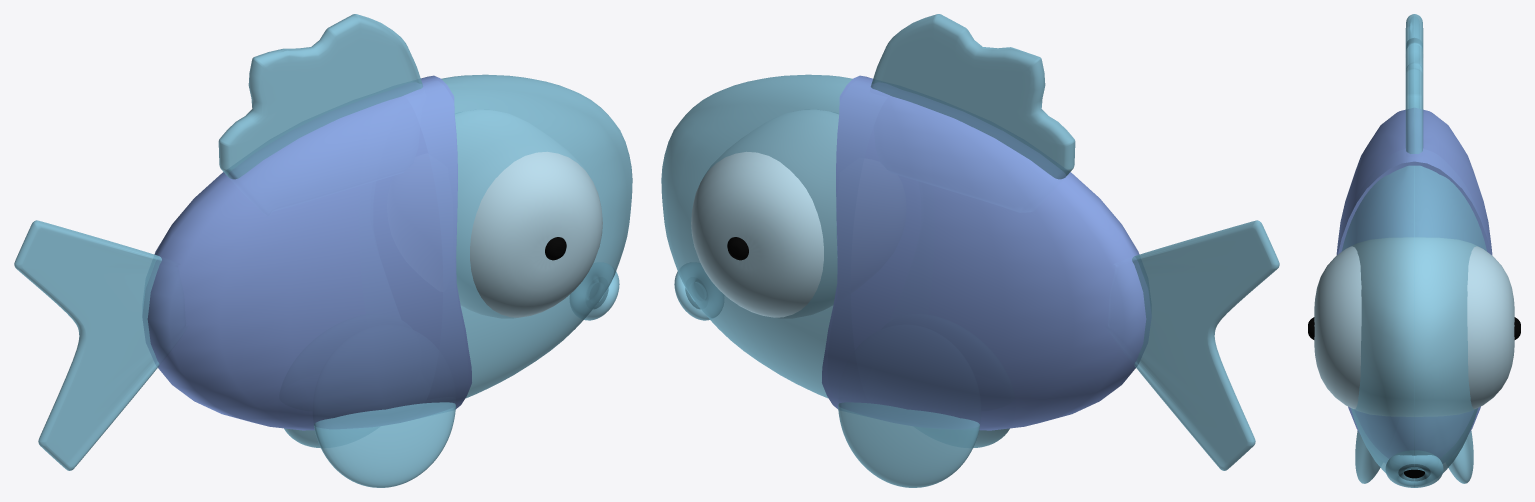
Rendered from GhostFish.fbx.
The picture shows the model from 3 angles, left to right: view 1: azimuth 30°, elevation 25°; view 2: azimuth 150°, elevation 25°; view 3: azimuth 270°, elevation 25°; orthographic projection. The views are drawn at different scales.
Visible parts, largest first — view 1: polySurface12, polySurface17, polySurface18, polySurface21, polySurface16, polySurface20, polySurface15; view 2: polySurface12, polySurface17, polySurface18, polySurface21, polySurface16, polySurface19, polySurface15; view 3: polySurface17, polySurface18, polySurface12, polySurface16, polySurface15, polySurface19, polySurface20, polySurface14, polySurface13.
Part boxes in pixels (box(x1,y1,x2,y2)): polySurface12: box(142, 75, 471, 430); polySurface17: box(441, 74, 632, 398); polySurface18: box(455, 110, 602, 318); polySurface21: box(14, 220, 161, 470); polySurface16: box(218, 14, 422, 179); polySurface20: box(314, 402, 455, 487); polySurface15: box(570, 262, 619, 320); polySurface12: box(822, 75, 1151, 430); polySurface17: box(661, 74, 852, 398); polySurface18: box(691, 110, 838, 318); polySurface21: box(1132, 220, 1279, 470); polySurface16: box(870, 14, 1075, 179); polySurface19: box(838, 402, 979, 487); polySurface15: box(674, 262, 723, 320); polySurface17: box(1341, 165, 1486, 473); polySurface18: box(1314, 237, 1514, 416); polySurface12: box(1336, 108, 1492, 458); polySurface16: box(1405, 14, 1423, 153); polySurface15: box(1385, 450, 1443, 487); polySurface19: box(1448, 431, 1473, 483); polySurface20: box(1355, 430, 1380, 483); polySurface14: box(1398, 464, 1430, 480); polySurface13: box(1308, 317, 1520, 339).
Bounding box in the file's own units: 4.02 × 2.85 × 1.28.
